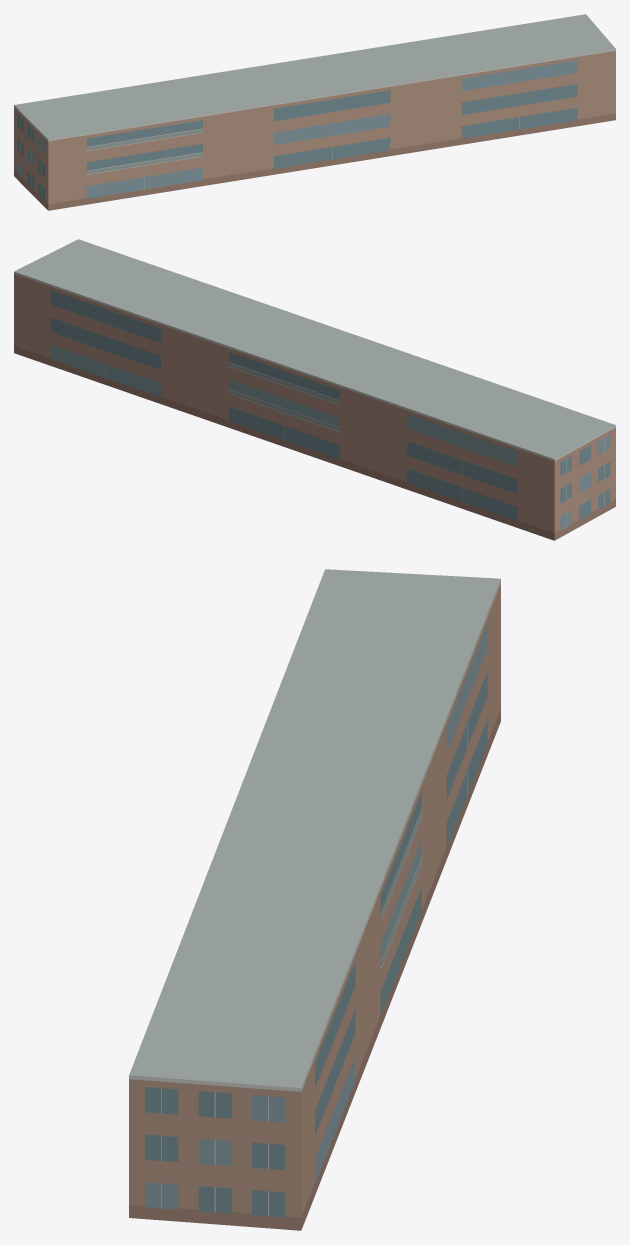
The model's file is survey-upis-32592417.glb.
The picture shows the model from 3 angles, top to bottom: view 1: azimuth 30°, elevation 25°; view 2: azimuth 150°, elevation 25°; view 3: azimuth 270°, elevation 25°; orthographic projection. The views are drawn at different scales.
Parts seen in each view (by area): view 1: survey-upis-32592417.tmp; view 2: survey-upis-32592417.tmp; view 3: survey-upis-32592417.tmp.
Part boxes in pixels (box(x1,y1,x2,y2)): survey-upis-32592417.tmp: box(14, 14, 615, 210); survey-upis-32592417.tmp: box(14, 239, 615, 540); survey-upis-32592417.tmp: box(129, 569, 500, 1230).
Bounding box in the file's own units: 71.45 × 9.15 × 21.65.
